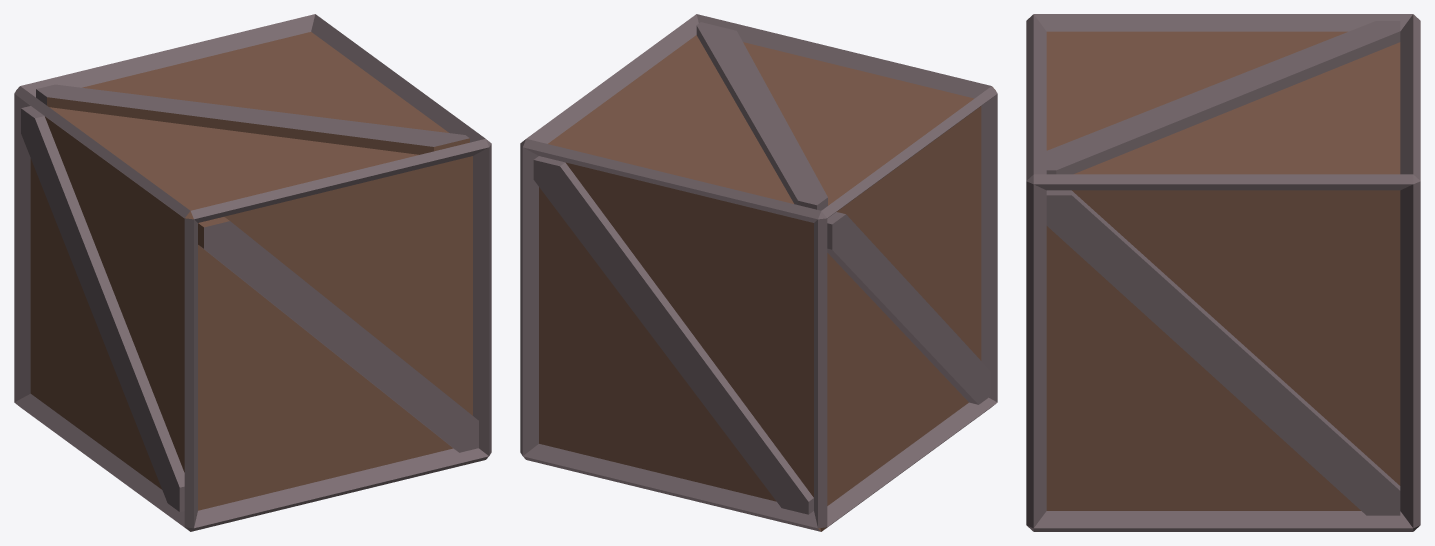
The model's file is Wooden_Crate.fbx.
3 renders of one model, left to right at view 1: azimuth 30°, elevation 25°; view 2: azimuth 150°, elevation 25°; view 3: azimuth 270°, elevation 25°, orthographic. The views are drawn at different scales.
Visible parts, largest first — view 1: Cube; view 2: Cube; view 3: Cube.
Boxes of the visible parts, left/top/right/bottom form: Cube: left=14, top=14, right=491, bottom=531; Cube: left=520, top=14, right=997, bottom=531; Cube: left=1026, top=14, right=1420, bottom=531.
Bounding box in the file's own units: 215 × 215 × 215.
